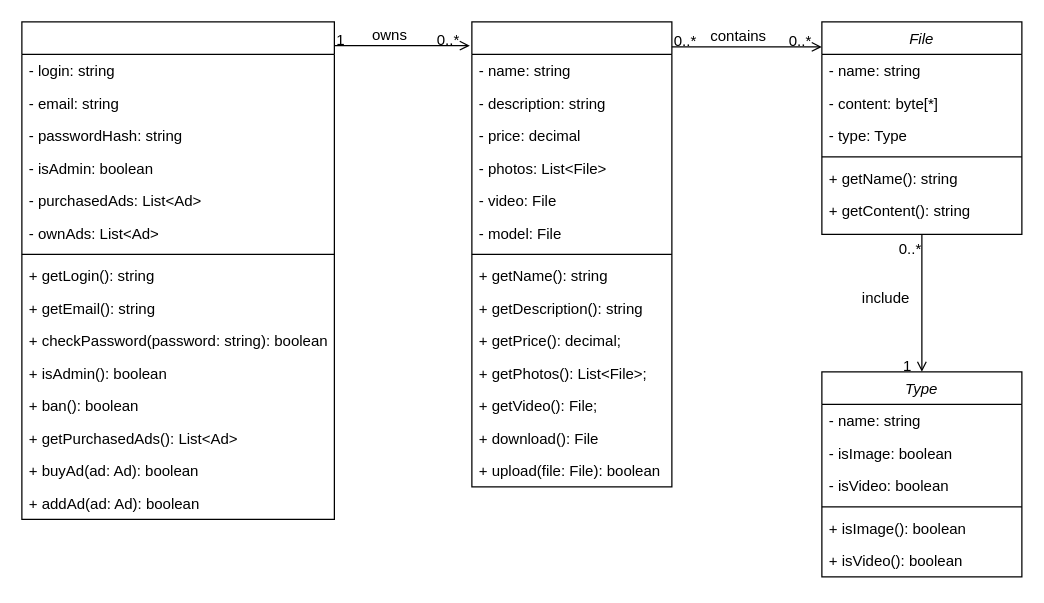
Some shapes in this 1044 by 603 pixel diagram are drawn without their labels. Each missing label, with the box of its shape:
Ad: (471, 21, 672, 487)
User: (21, 21, 334, 519)
